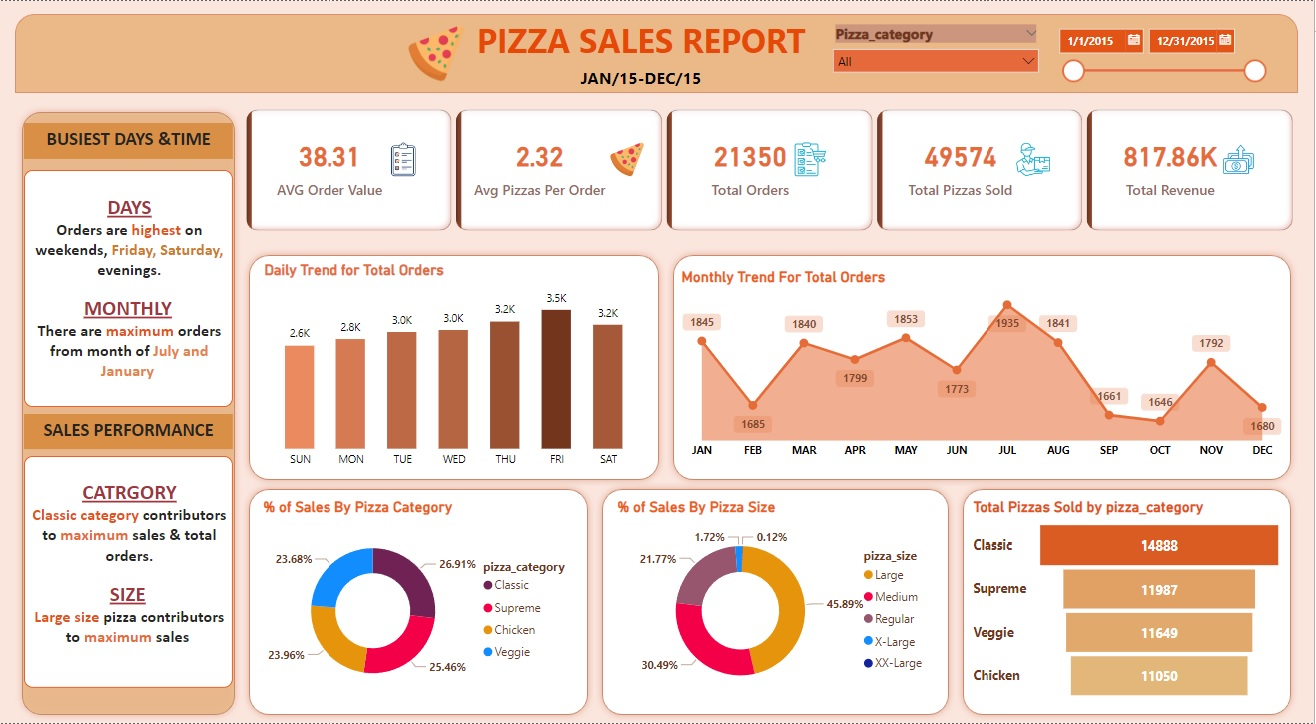

The page's visual inventory and layout, read from the dashboard file:
{"tool":"powerbi","page":{"name":"Home","canvas":[1500,820],"ordinal":0},"visuals":[{"type":"cardVisual","fields":{"Data":["pizza_sales.AVG Order Value","pizza_sales.Avg Pizzas Per Order","pizza_sales.Total Orders","pizza_sales.Total Pizzas Sold","pizza_sales.Total Revenue"]},"box":[275.8,118.5,1205.9,147],"z":0},{"type":"shape","box":[17.1,14.8,1464.7,90],"z":1000},{"type":"textbox","box":[657.7,69.5,157.3,35.3],"z":2000},{"type":"textbox","box":[498.1,14.8,475.3,72.9],"z":3000},{"type":"image","box":[442.2,21.7,111.7,76.4],"z":4000},{"type":"shape","box":[275.8,280.4,484.4,272.4],"z":5000},{"type":"columnChart","title":"Daily Trend for Total Orders","fields":{"Y":["pizza_sales.Total Orders"],"Category":["pizza_sales.Order Day"]},"box":[296.4,295.2,444.5,243.9],"z":6000},{"type":"shape","box":[760.3,280.4,721.5,272.4],"z":7000},{"type":"areaChart","title":"Monthly Trend For Total Orders","fields":{"Category":["pizza_sales.Order Month"],"Y":["pizza_sales.Total Orders"]},"box":[772.8,303.2,696.4,225.7],"z":8000},{"type":"shape","box":[275.8,547.1,403.5,272.4],"z":9000},{"type":"shape","box":[679.3,547.1,411.5,272.4],"z":10000},{"type":"shape","box":[1090.8,547.1,391,272.4],"z":11000},{"type":"donutChart","title":"% of Sales By Pizza Category","fields":{"Category":["pizza_sales.pizza_category"],"Y":["pizza_sales.Total Revenue"]},"box":[295.2,565.3,370.4,233.7],"z":12000},{"type":"shape","box":[17.1,118.5,258.7,701],"z":13000},{"type":"donutChart","title":"% of Sales By Pizza Size","fields":{"Y":["pizza_sales.Total Revenue"],"Category":["pizza_sales.pizza_size"]},"box":[699.8,565.3,370.4,233.7],"z":14000},{"type":"funnel","fields":{"Category":["pizza_sales.pizza_category"],"Y":["pizza_sales.Total Pizzas Sold"]},"box":[1105.6,565.3,363.6,233.7],"z":15000},{"type":"textbox","box":[27.4,139.1,238.2,41],"z":16000},{"type":"textbox","box":[27.4,192.6,238.2,269],"z":17000},{"type":"textbox","box":[27.4,469.6,238.2,39.9],"z":17001},{"type":"textbox","box":[27.4,517.5,238.2,263.3],"z":17002},{"type":"slicer","fields":{"Values":["pizza_sales.pizza_category"]},"box":[940.3,21.7,256.5,76.4],"z":17003},{"type":"slicer","fields":{"Values":["pizza_sales.order_date"]},"box":[1196.8,21.7,256.5,76.4],"z":17004}]}

Visuals, with their boxes in screenshot pixels (x1, y1, x2, y2), scaled from the page's 1500x820 canvas onto the 1316x724 screenshot:
cardVisual - pizza_sales.AVG Order Value x pizza_sales.Avg Pizzas Per Order: Rect(242, 105, 1300, 234)
shape: Rect(15, 13, 1300, 93)
textbox: Rect(577, 61, 715, 93)
textbox: Rect(437, 13, 854, 77)
image: Rect(388, 19, 486, 87)
shape: Rect(242, 248, 667, 488)
"Daily Trend for Total Orders" columnChart: Rect(260, 261, 650, 476)
shape: Rect(667, 248, 1300, 488)
"Monthly Trend For Total Orders" areaChart: Rect(678, 268, 1289, 467)
shape: Rect(242, 483, 596, 723)
shape: Rect(596, 483, 957, 723)
shape: Rect(957, 483, 1300, 723)
"% of Sales By Pizza Category" donutChart: Rect(259, 499, 584, 705)
shape: Rect(15, 105, 242, 723)
"% of Sales By Pizza Size" donutChart: Rect(614, 499, 939, 705)
funnel - pizza_sales.pizza_category x pizza_sales.Total Pizzas Sold: Rect(970, 499, 1289, 705)
textbox: Rect(24, 123, 233, 159)
textbox: Rect(24, 170, 233, 408)
textbox: Rect(24, 415, 233, 450)
textbox: Rect(24, 457, 233, 689)
slicer - pizza_sales.pizza_category: Rect(825, 19, 1050, 87)
slicer - pizza_sales.order_date: Rect(1050, 19, 1275, 87)
